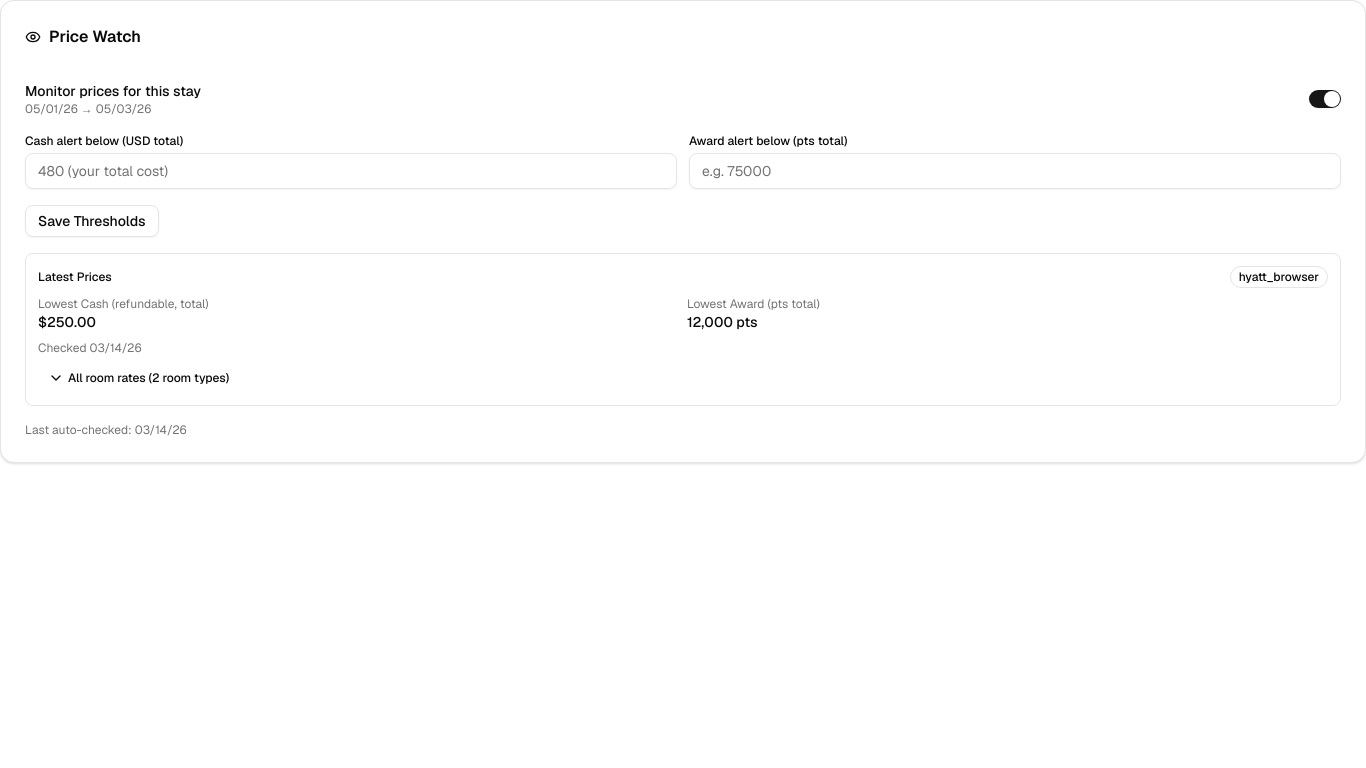
Test: BookingPriceWatch › expands a room group row to show rate plan rows
The image size is (1366, 768).
Click the button with test id "toggle-room-rates".
click(110, 378)  # box [38, 364, 1328, 392]
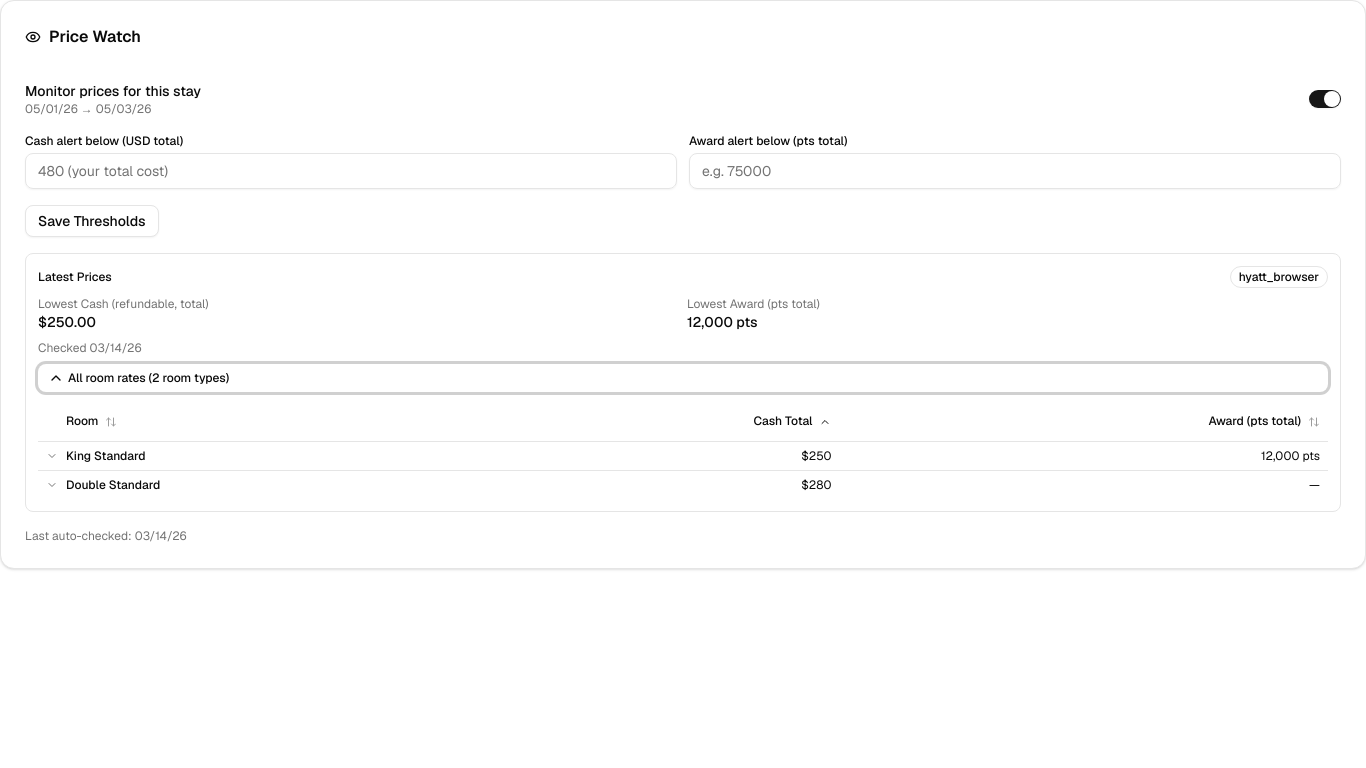
Click the row with test id "room-group-row" showing "King Standard $250 12,000 pts".
click(683, 456)  # box [38, 441, 1328, 470]
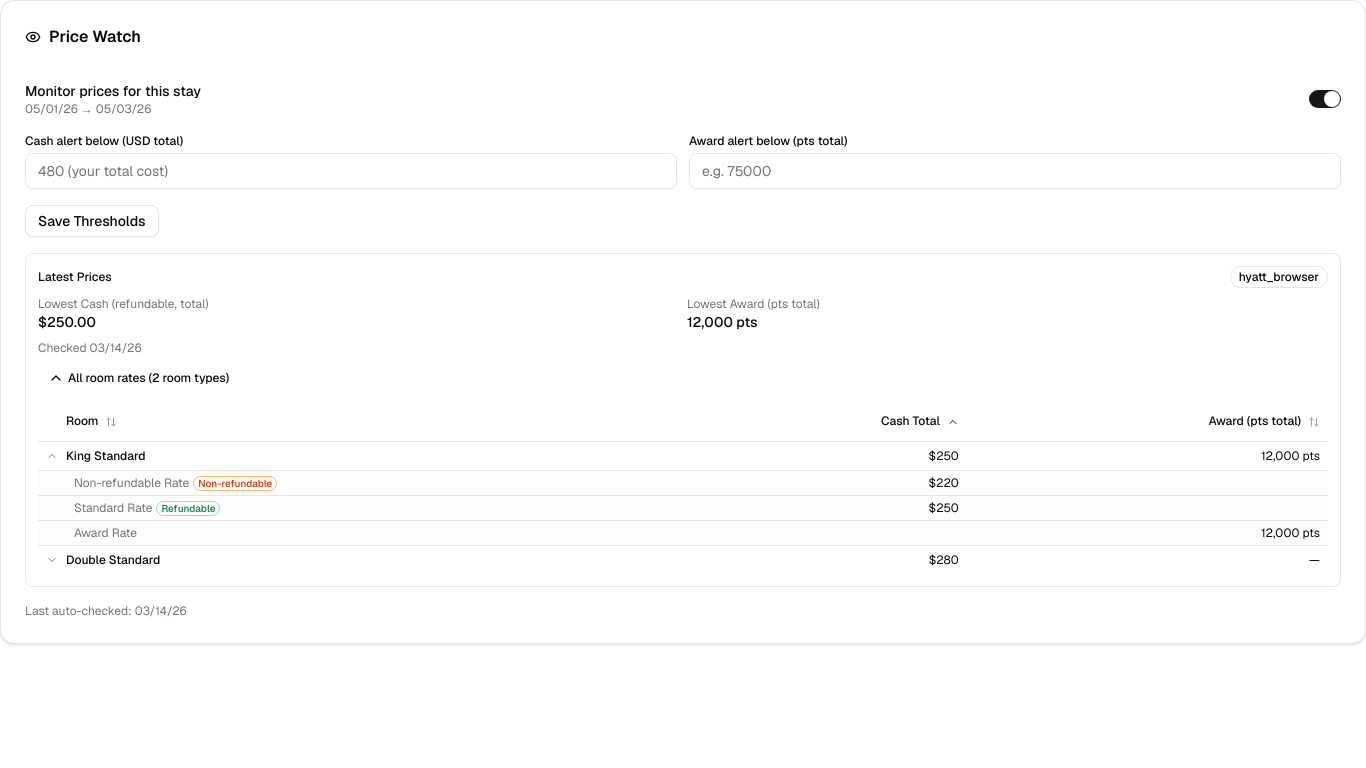
Expected: the number of rows with test id "room-rate-row" is 3, [38, 470, 1328, 495]; [38, 495, 1328, 521]; [38, 521, 1328, 546]
